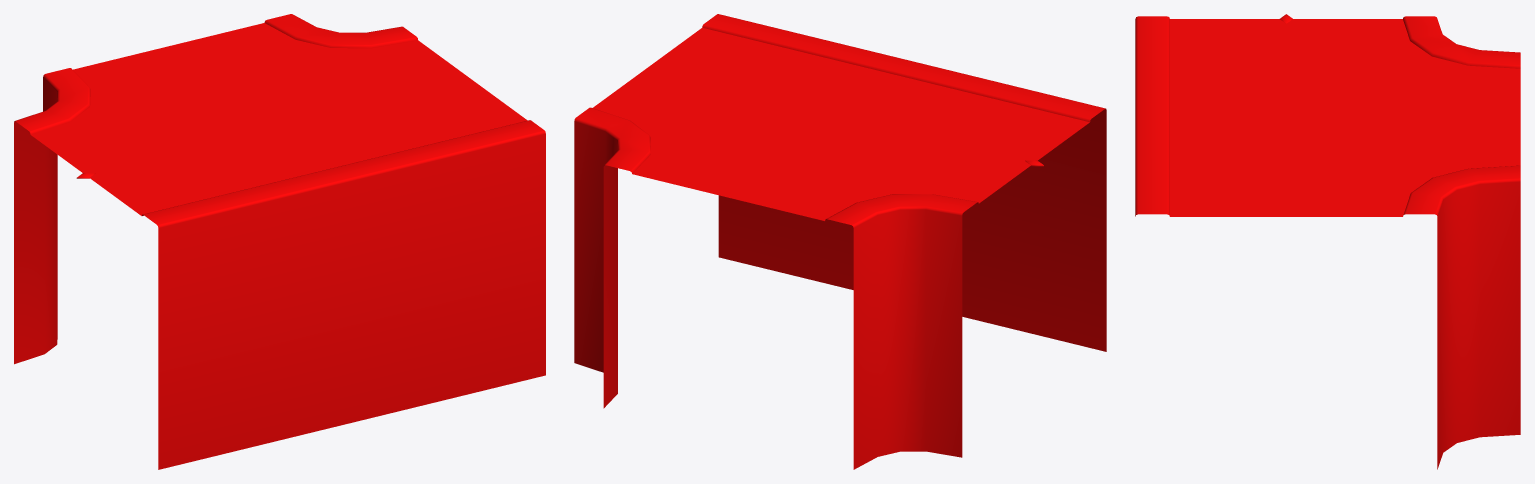
Rendered from part_3_props_mesh_02.fbx.
The picture shows the model from 3 angles, left to right: view 1: azimuth 30°, elevation 25°; view 2: azimuth 150°, elevation 25°; view 3: azimuth 270°, elevation 25°; orthographic projection. The views are drawn at different scales.
Parts seen in each view (by area): view 1: part_3_props_mesh_02; view 2: part_3_props_mesh_02; view 3: part_3_props_mesh_02.
Part boxes in pixels (x1,y1,x2,y2): part_3_props_mesh_02: [14, 14, 545, 469]; part_3_props_mesh_02: [574, 14, 1106, 469]; part_3_props_mesh_02: [1135, 14, 1520, 469].
Size of the model in its own units: 8.35 by 4.91 by 6.7.
